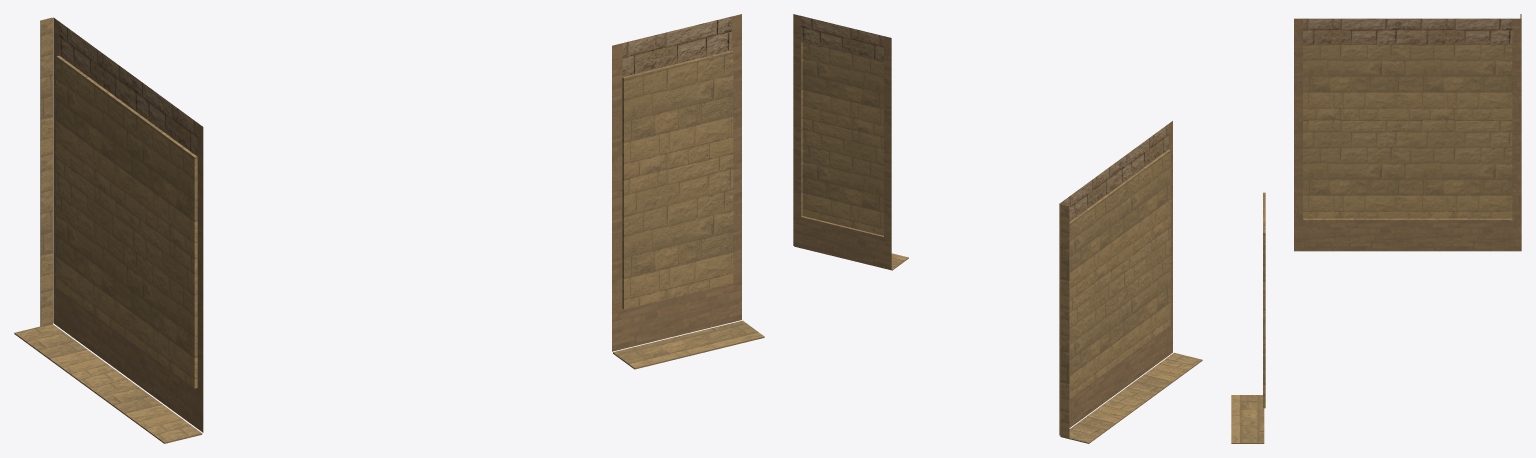
File: unit-tea-landing.glb
The picture shows the model from 3 angles, left to right: view 1: azimuth 30°, elevation 25°; view 2: azimuth 150°, elevation 25°; view 3: azimuth 270°, elevation 25°; orthographic projection. The views are drawn at different scales.
Visible parts, largest first — view 1: bz06_dressed_sandstone-cast, bz06_service_stone-cast, ph_bz04_stone_trim_sandstone-cast; view 2: bz06_dressed_sandstone-cast, bz06_service_stone-cast, ph_bz04_stone_trim_sandstone-cast; view 3: bz06_dressed_sandstone-cast, bz06_service_stone-cast, ph_bz04_stone_trim_sandstone-cast.
Part boxes in pixels (box(x1,y1,x2,y2)): bz06_dressed_sandstone-cast: box(14, 17, 764, 443); bz06_service_stone-cast: box(53, 14, 741, 432); ph_bz04_stone_trim_sandstone-cast: box(59, 16, 731, 155); bz06_dressed_sandstone-cast: box(794, 41, 1202, 443); bz06_service_stone-cast: box(793, 14, 1172, 435); ph_bz04_stone_trim_sandstone-cast: box(801, 16, 1168, 221); bz06_dressed_sandstone-cast: box(1231, 14, 1521, 443); bz06_service_stone-cast: box(1294, 18, 1521, 250); ph_bz04_stone_trim_sandstone-cast: box(1303, 18, 1512, 44).
Bounding box in the file's own units: 8.6 × 4.52 × 5.1.
3 materials, 3 textured.
